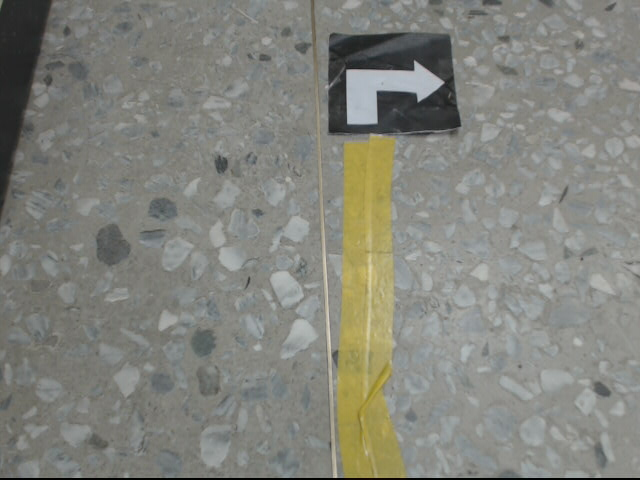right: (327, 30, 462, 137)
